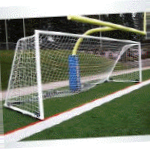goals: (1, 27, 146, 121)
